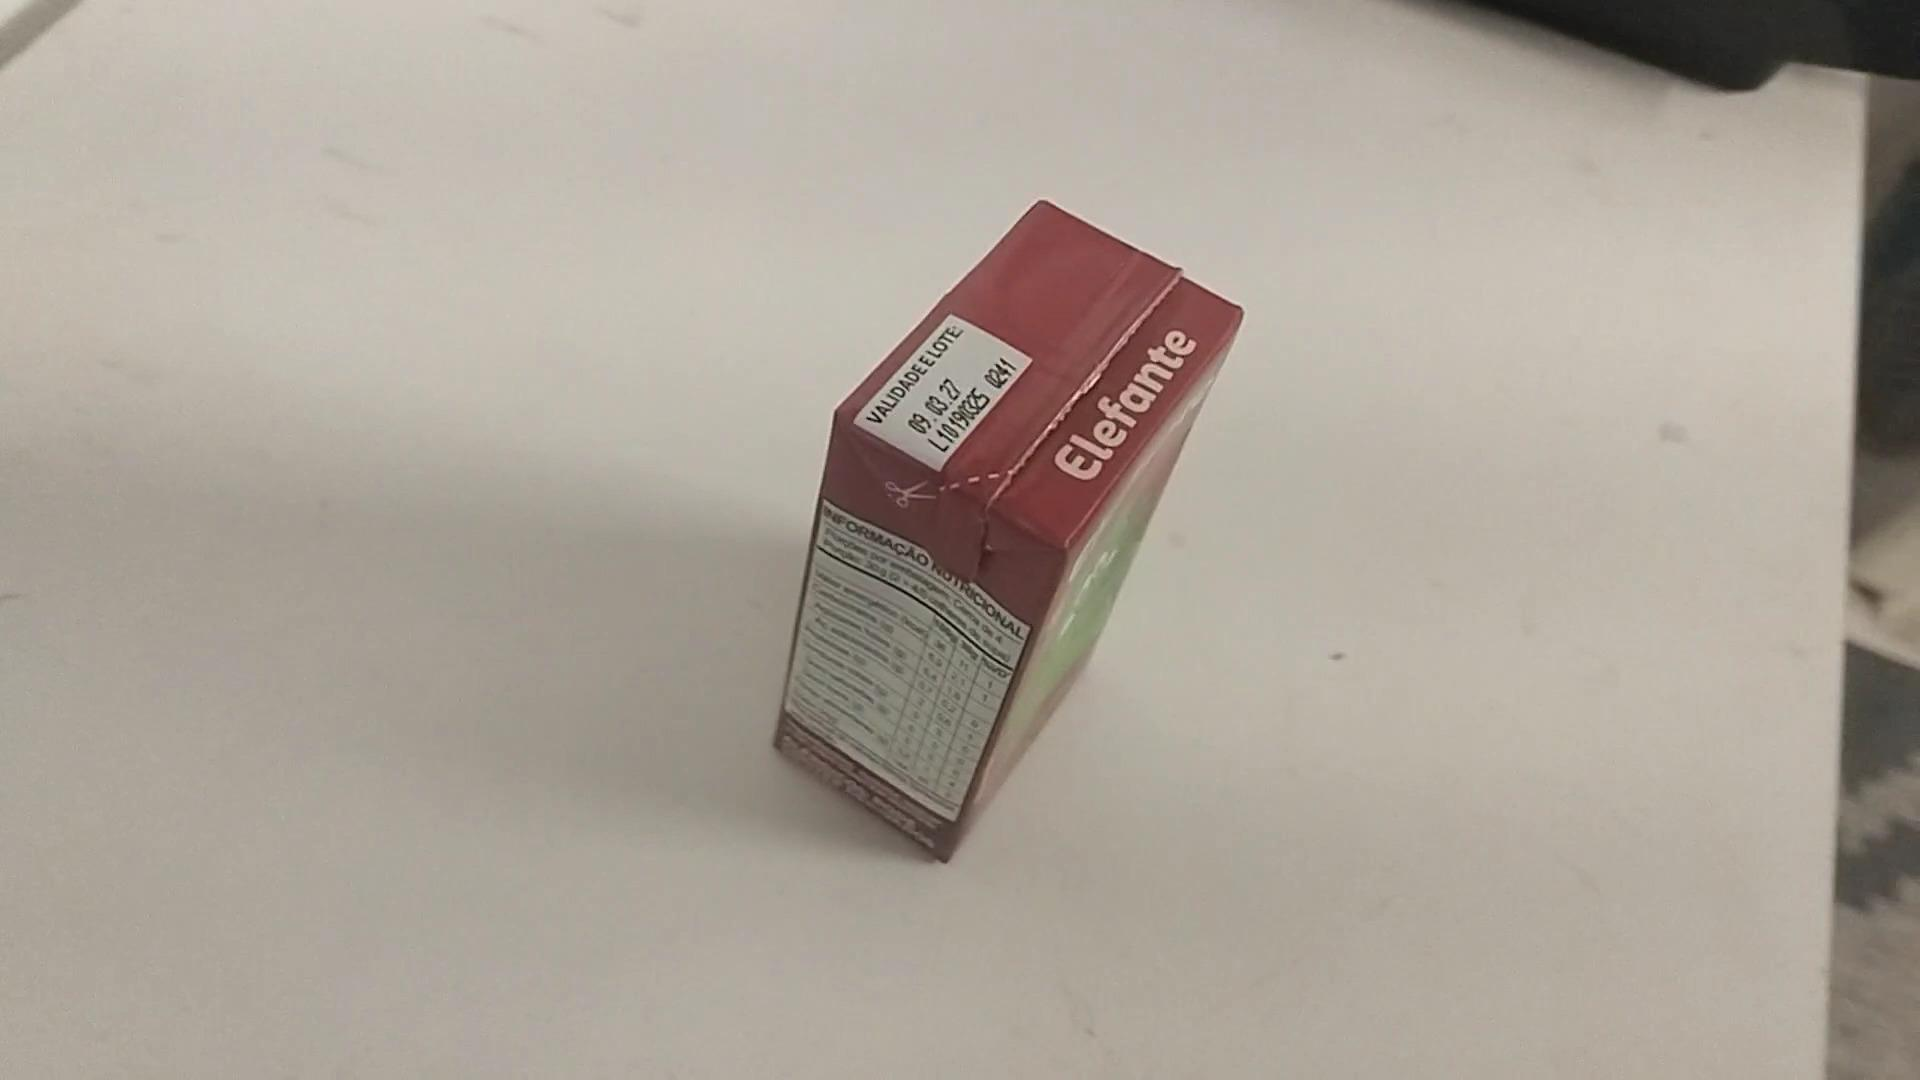tomate: (761, 194, 1250, 864)
